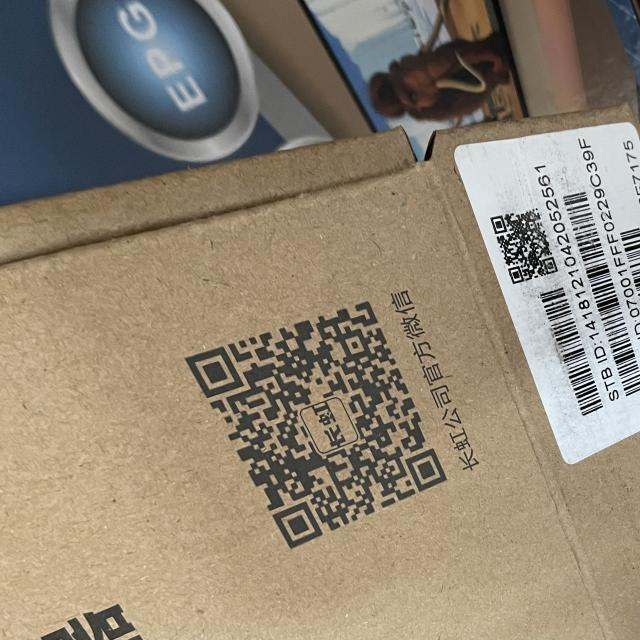qr_code: (184, 300, 449, 549)
